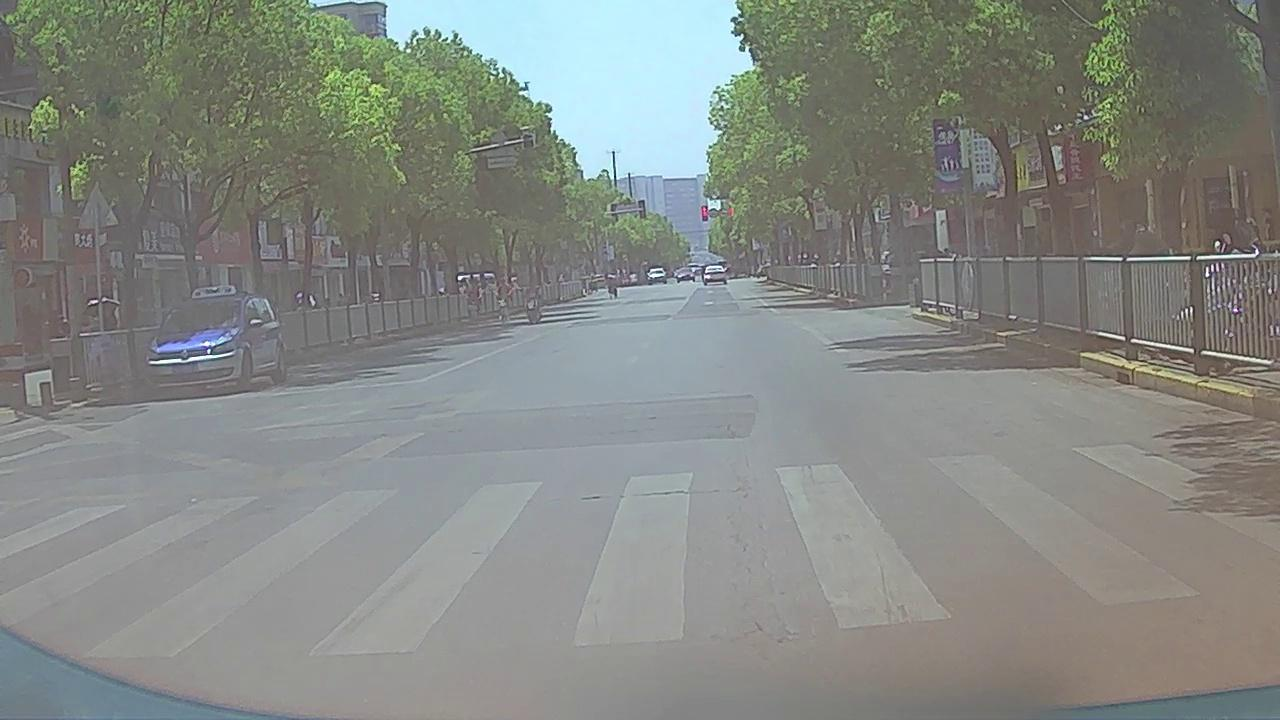traffic_light: (701, 206, 708, 221)
